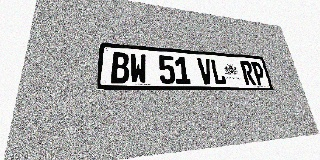1: (174, 56, 191, 84)
5: (158, 55, 176, 84)
B: (111, 52, 129, 83)
L: (210, 59, 227, 85)
P: (250, 62, 267, 85)
R: (240, 61, 256, 85)
V: (197, 58, 214, 85)
W: (130, 53, 147, 84)
